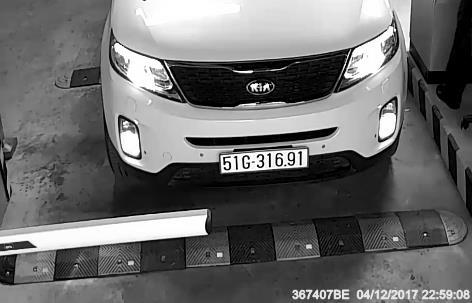License-plate: (215, 144, 321, 193)
